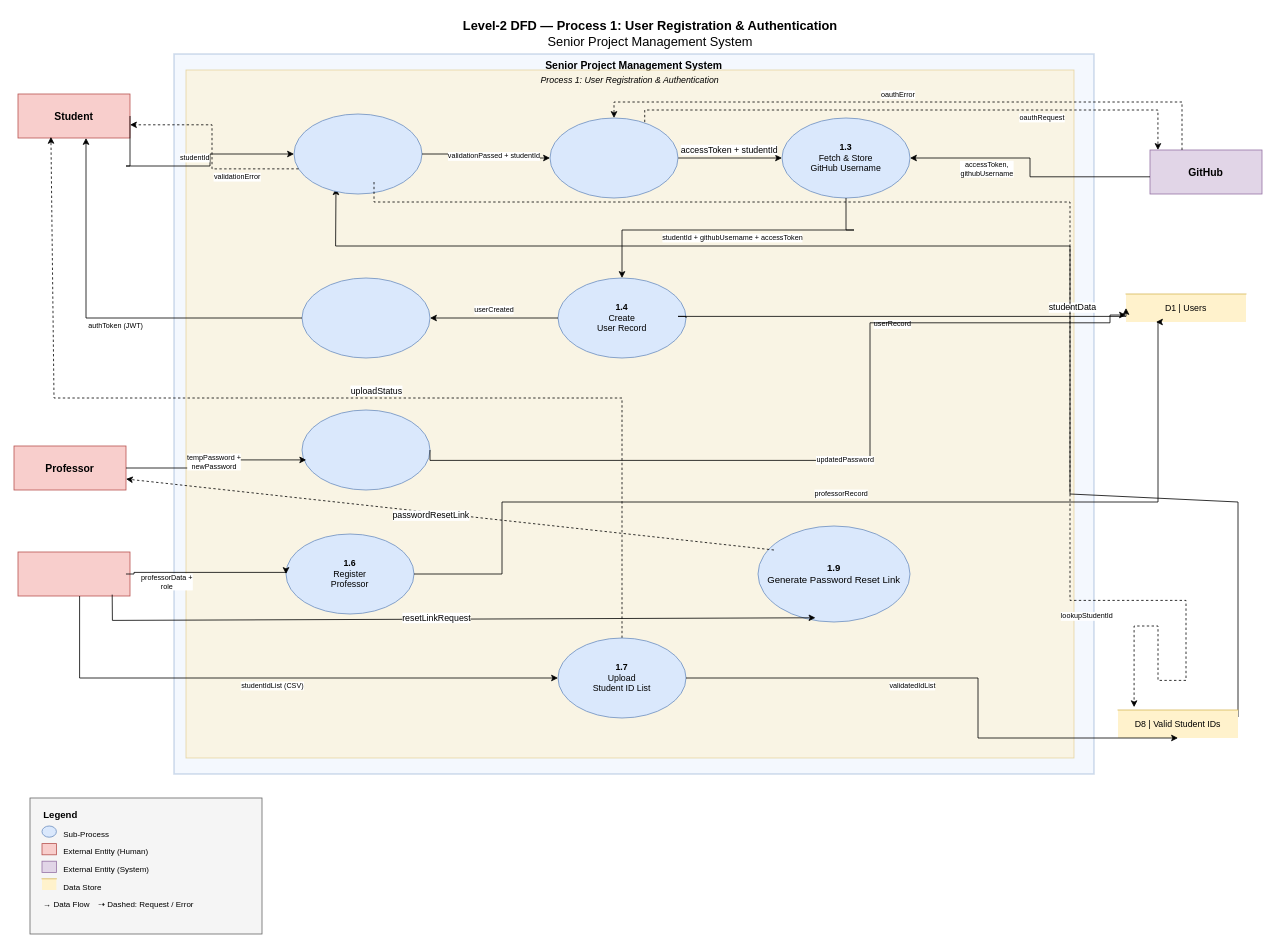
Image size: 1276x948. Some labels were removed from this diagram. The shapes that lost their labels are listed below. From the top down, each one's centre as x and y in pixels, then its label:
point (357, 153): 1.1 Validate Student ID
point (613, 157): 1.2 Execute GitHub OAuth
point (365, 317): 1.5 Issue Auth Token (JWT)
point (365, 449): 1.8 Initial Login & Password Change
point (73, 573): Coordinator
